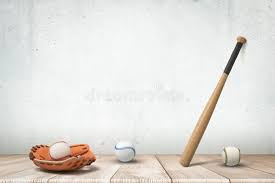baseball bat: (179, 35, 247, 167)
